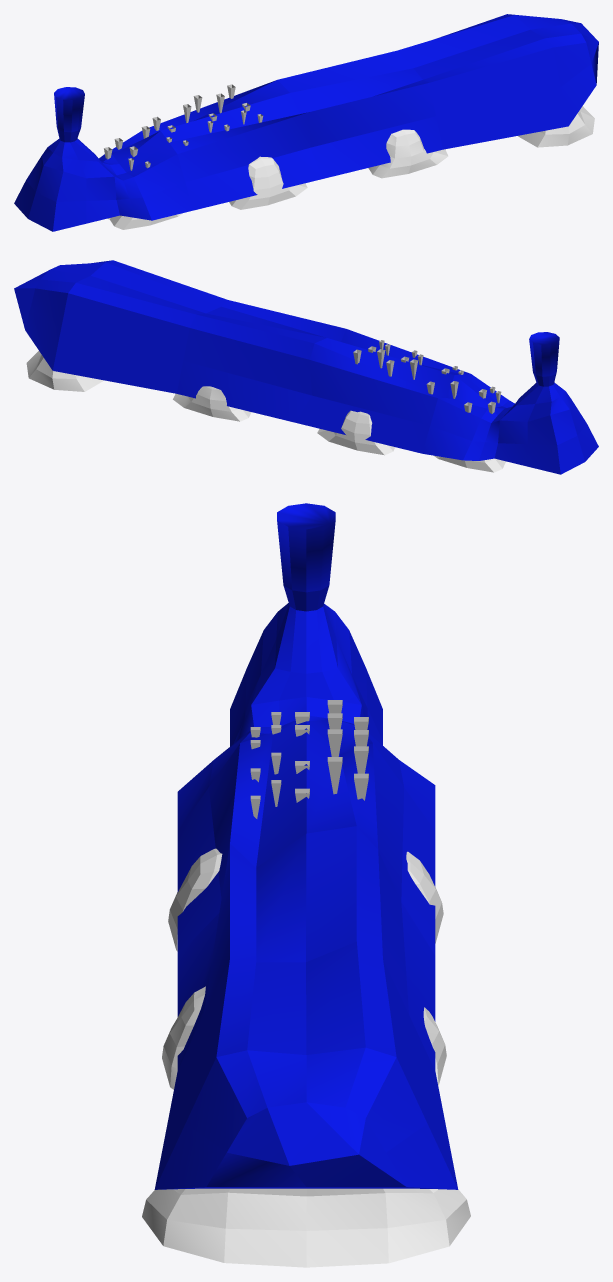
Rendered from caveLONG.glb.
3 views of the same model, one above another, from view 1: azimuth 30°, elevation 25°; view 2: azimuth 150°, elevation 25°; view 3: azimuth 270°, elevation 25° (orthographic). The views are drawn at different scales.
Visible parts, largest first — view 1: Cube.001, Cube.005, Cube.012, Cube.002, Cube.003, Cube.010; view 2: Cube.001, Cube.008, Cube.006, Cube.002, Cube.003, Cube.009; view 3: Cube.001, Cube.002, Cube.003, Cube.012, Cube.005, Cube.008.
Part boxes in pixels (<box>): Cube.001: <box>14,14,598,231</box>; Cube.005: <box>368,129,448,178</box>; Cube.012: <box>229,156,307,209</box>; Cube.002: <box>518,106,594,147</box>; Cube.003: <box>104,84,263,170</box>; Cube.010: <box>107,213,182,229</box>; Cube.001: <box>14,260,598,474</box>; Cube.008: <box>317,410,395,455</box>; Cube.006: <box>173,386,251,421</box>; Cube.002: <box>26,351,103,391</box>; Cube.003: <box>353,340,501,413</box>; Cube.009: <box>434,455,506,472</box>; Cube.001: <box>154,503,458,1189</box>; Cube.002: <box>142,1188,470,1267</box>; Cube.003: <box>250,700,368,818</box>; Cube.012: <box>168,848,222,951</box>; Cube.005: <box>162,986,205,1089</box>; Cube.008: <box>406,851,443,943</box>.
Size of the model in its own units: 521 by 117 by 133.
